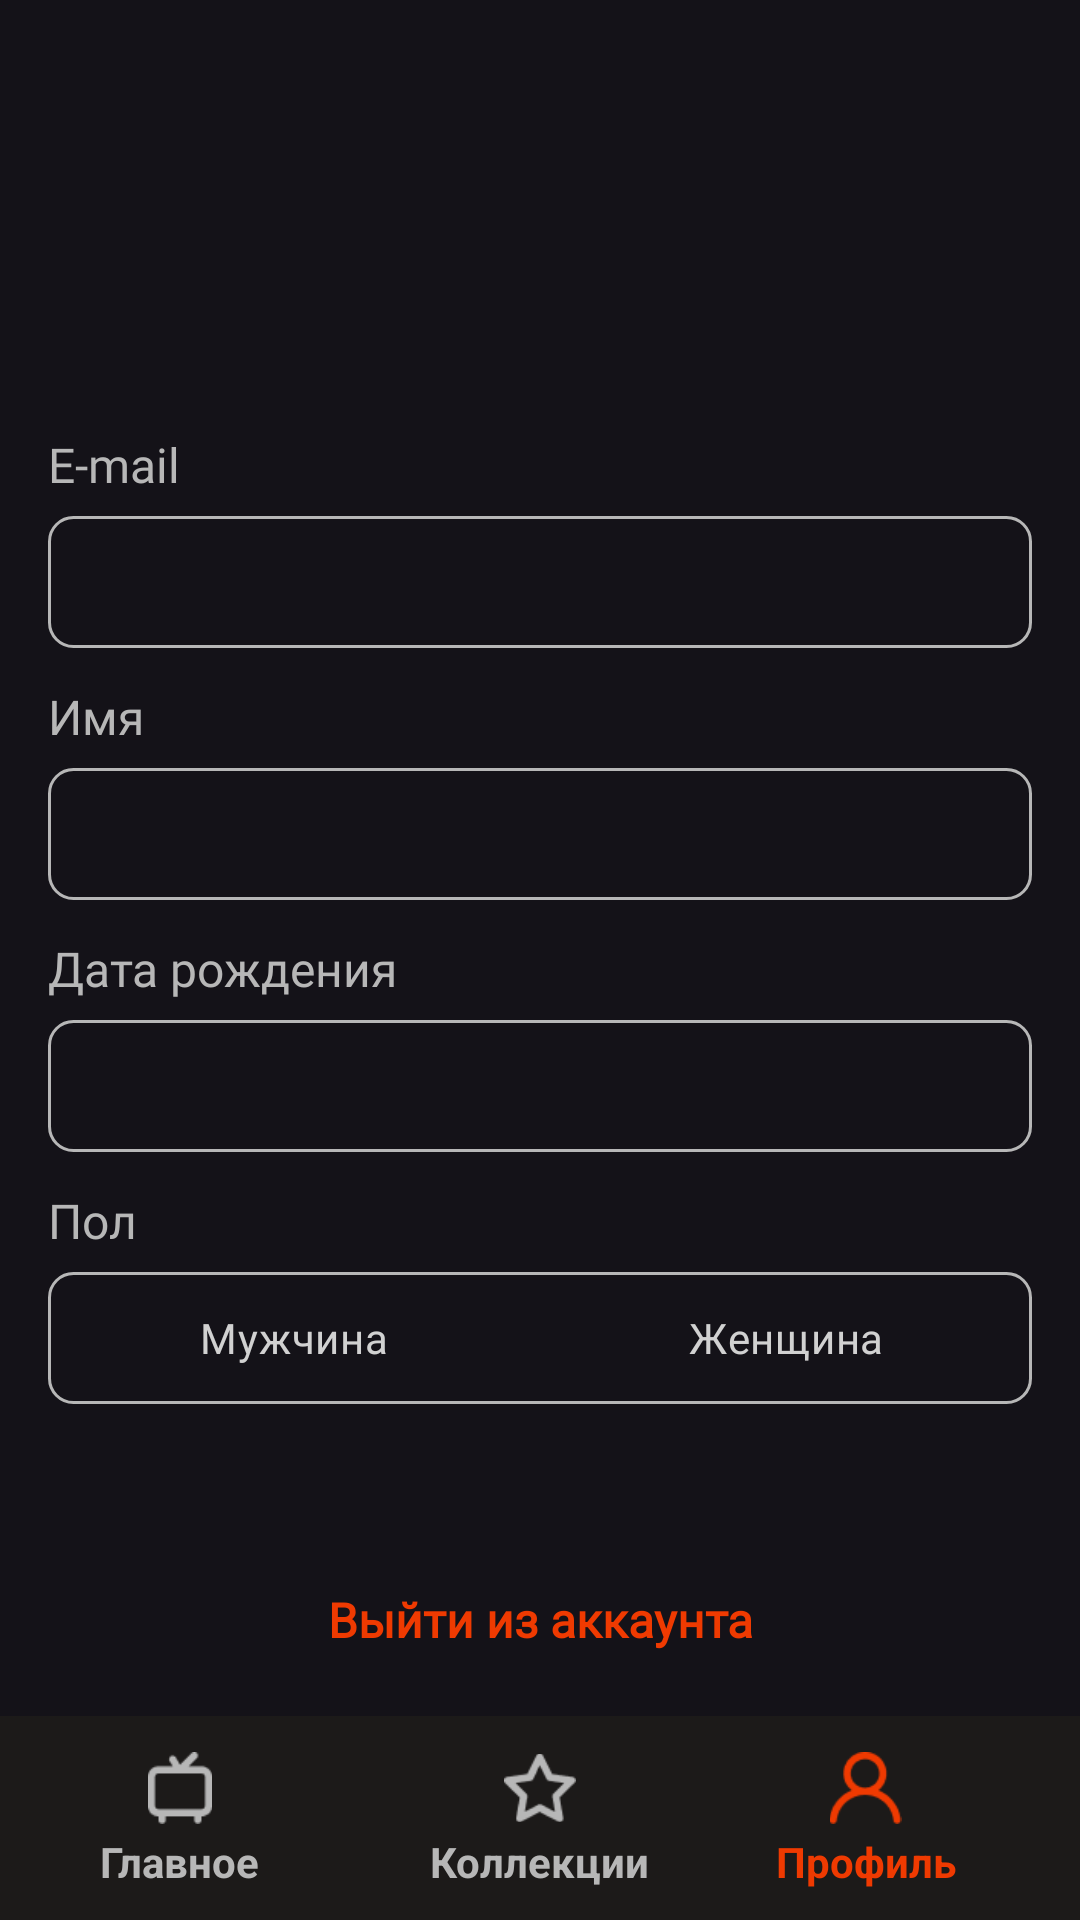

Icon click points for this 1080x1920 phone screenshot, format point (x, y):
bottom panel star: point (540, 1788)
bottom panel tv: point (180, 1788)
